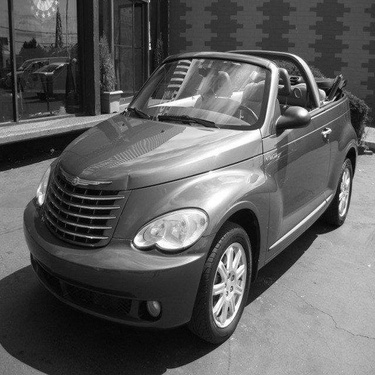car: (13, 44, 360, 349), (26, 60, 75, 95), (36, 61, 76, 99)
